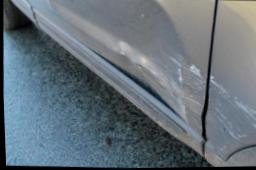Door: (146, 62, 211, 133)
Fender: (204, 87, 256, 159)
